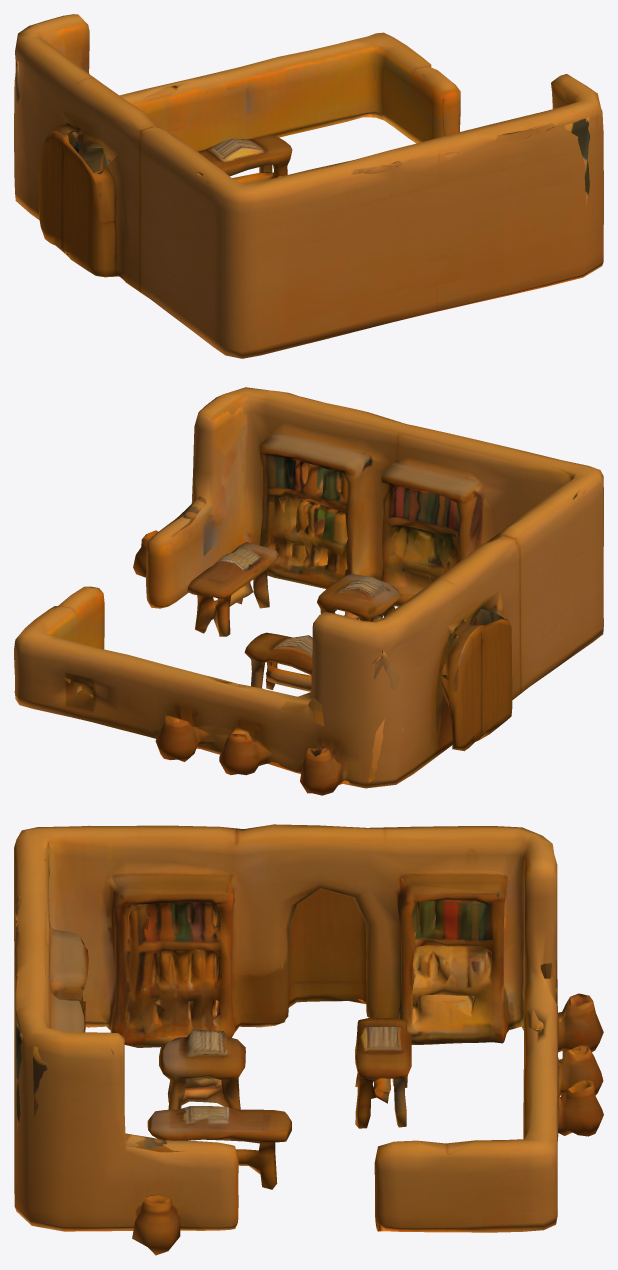
Rendered from Kutubxona.fbx.
3 views of the same model, one above another, from view 1: azimuth 30°, elevation 25°; view 2: azimuth 150°, elevation 25°; view 3: azimuth 270°, elevation 25° (orthographic). The views are drawn at different scales.
Parts seen in each view (by area): view 1: tripo_node_35399060; view 2: tripo_node_35399060; view 3: tripo_node_35399060.
Boxes of the visible parts, <box> form: tripo_node_35399060: <box>14,14,603,358</box>; tripo_node_35399060: <box>14,387,603,795</box>; tripo_node_35399060: <box>14,824,603,1255</box>.
Bounding box in the file's own units: 99.23 × 36.36 × 98.47.
Materials: 1 (1 with a texture image).
